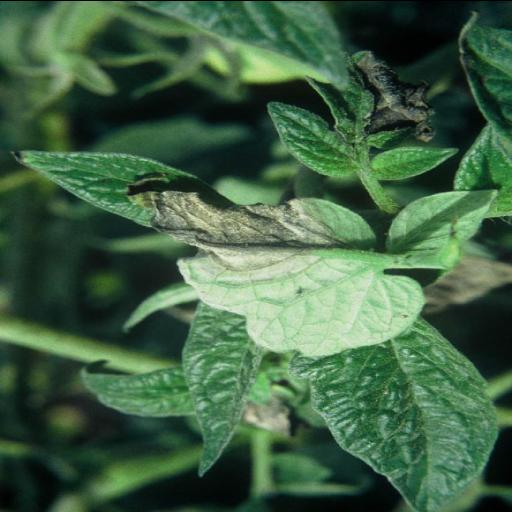Late Blight: (18, 148, 458, 358)
